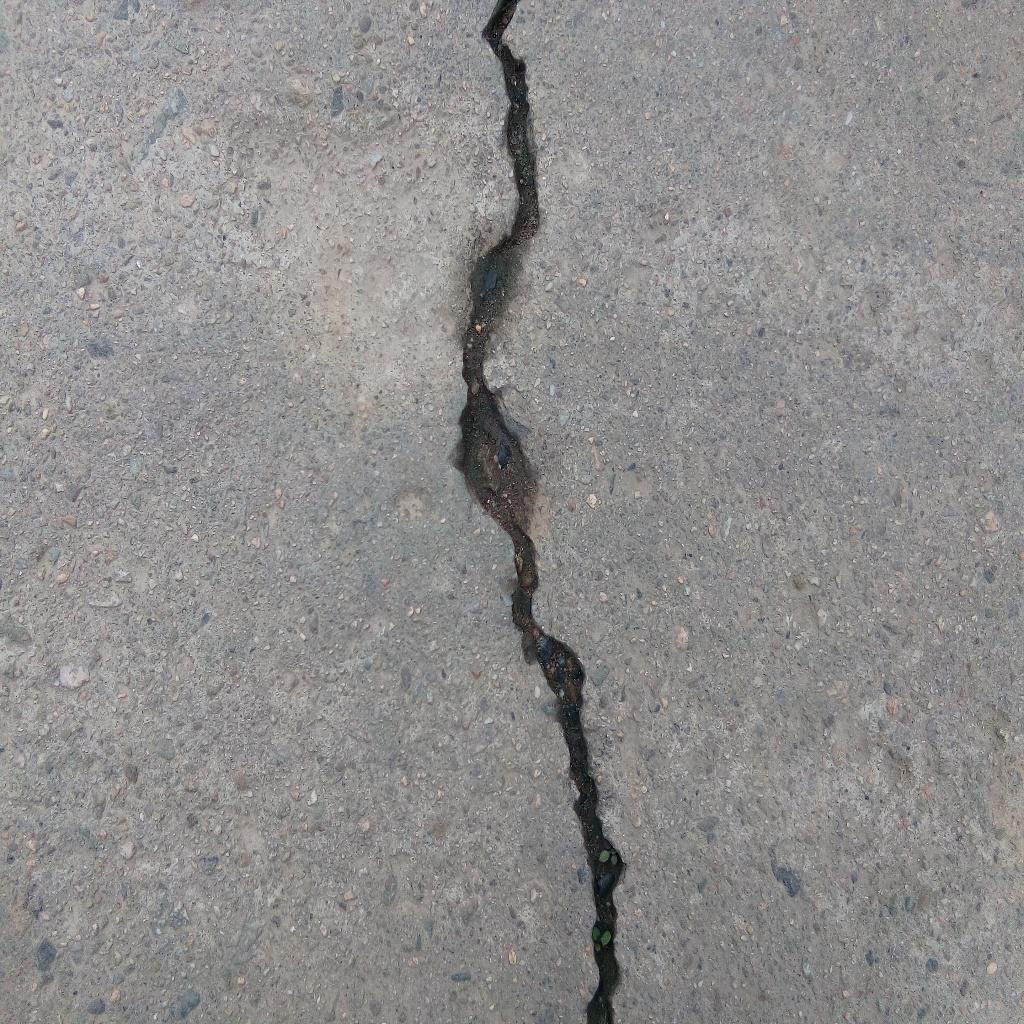Crack: (448, 1, 630, 1024)
